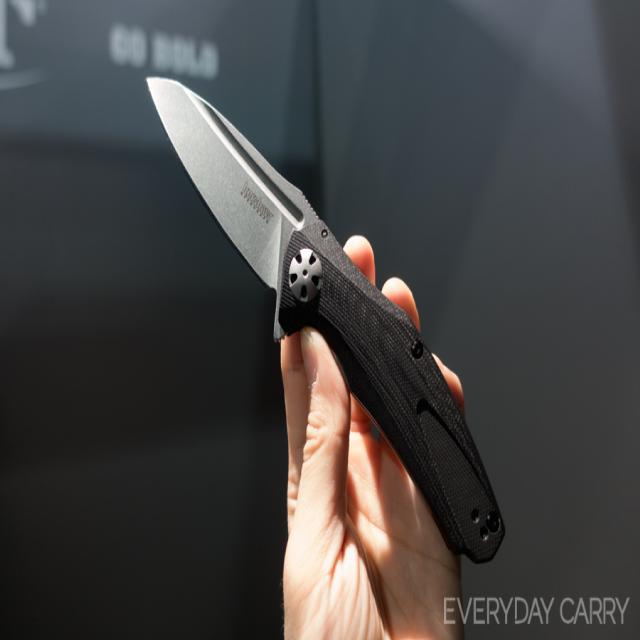knife: (138, 71, 510, 565)
